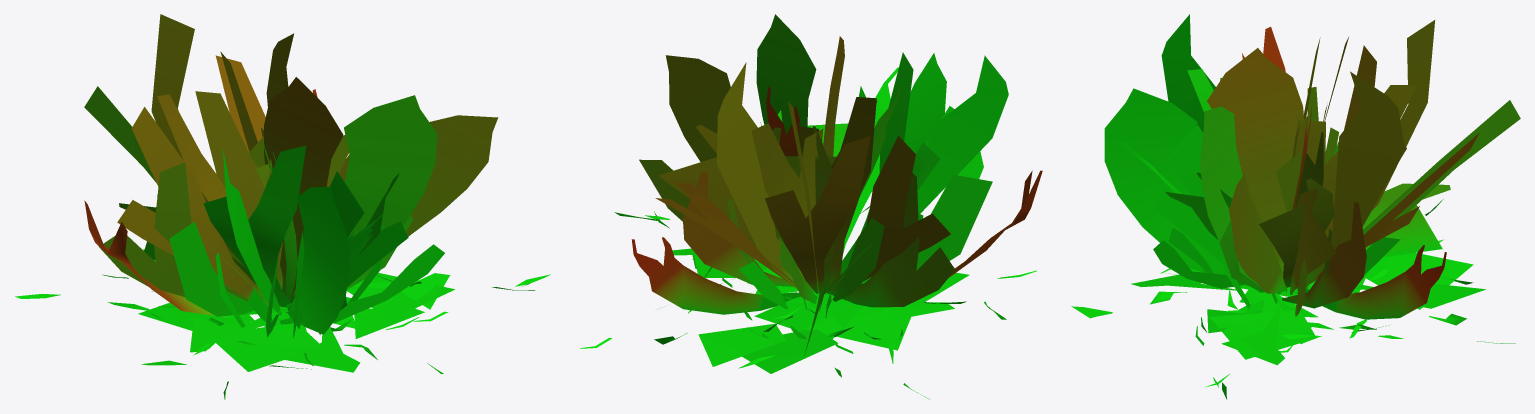
File: Dead Shrubs_LOD2_Var13_vdknafgha.fbx
3 renders of one model, left to right at view 1: azimuth 30°, elevation 25°; view 2: azimuth 150°, elevation 25°; view 3: azimuth 270°, elevation 25°, orthographic. The views are drawn at different scales.
Visible parts, largest first — view 1: _pf0r_Var13_LOD2; view 2: _pf0r_Var13_LOD2; view 3: _pf0r_Var13_LOD2.
Boxes of the visible parts, bbox=[...] form: _pf0r_Var13_LOD2: bbox=[15, 14, 550, 399]; _pf0r_Var13_LOD2: bbox=[580, 14, 1042, 399]; _pf0r_Var13_LOD2: bbox=[1071, 14, 1520, 399].
Size of the model in its own units: 83.12 by 46.54 by 74.69.
